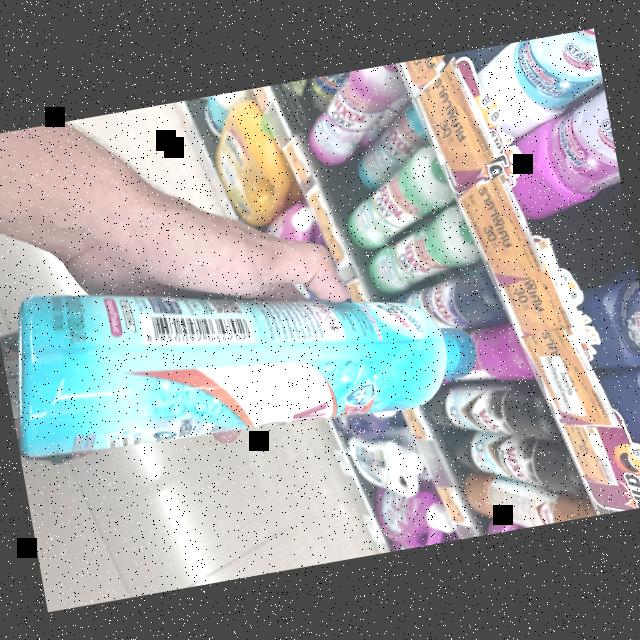chemical_plastic_bottle: (0, 220, 486, 480)
